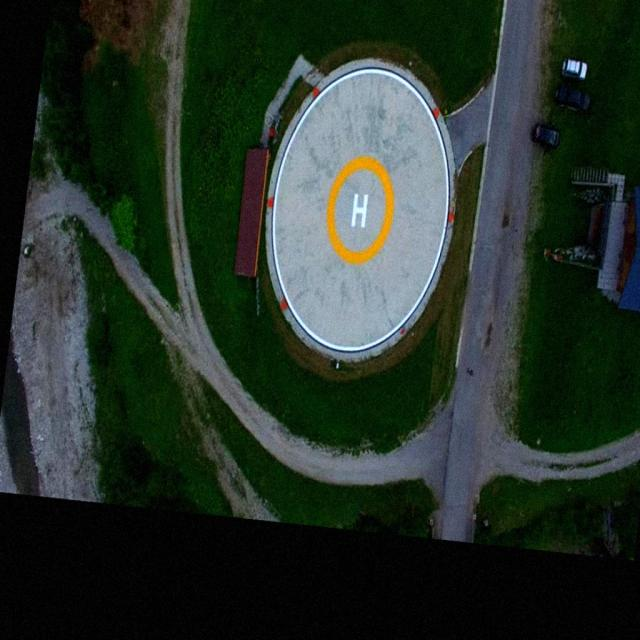helipad: (322, 155, 397, 267)
